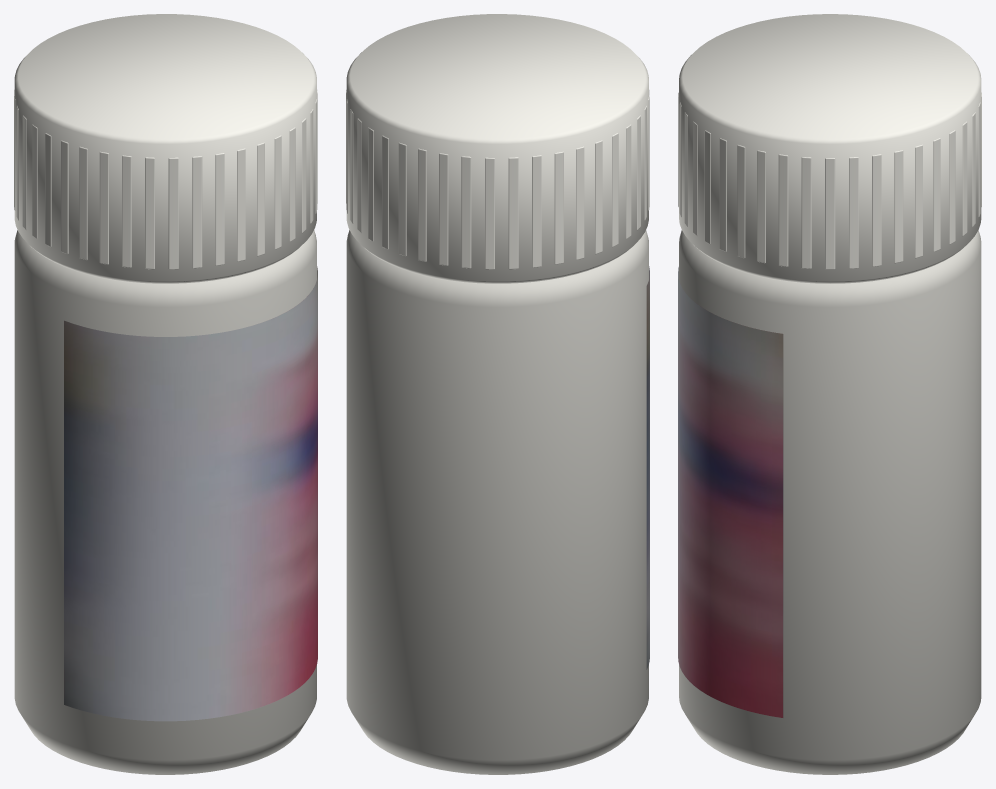
Rendered from pantry_contents__white_tube.glb.
The picture shows the model from 3 angles, left to right: view 1: azimuth 30°, elevation 25°; view 2: azimuth 150°, elevation 25°; view 3: azimuth 270°, elevation 25°; orthographic projection.
Parts seen in each view (by area): view 1: white_tube__body, white_tube__cap; view 2: white_tube__body, white_tube__cap; view 3: white_tube__body, white_tube__cap.
Part boxes in pixels (x1=…): white_tube__body: x1=14, y1=230, x2=317, y2=774; white_tube__cap: x1=14, y1=14, x2=317, y2=283; white_tube__body: x1=346, y1=230, x2=649, y2=774; white_tube__cap: x1=346, y1=14, x2=649, y2=283; white_tube__body: x1=678, y1=230, x2=981, y2=774; white_tube__cap: x1=678, y1=14, x2=981, y2=283.
Bounding box in the file's own units: 0.0412 × 0.0959 × 0.0413.
3 materials, 1 textured.
